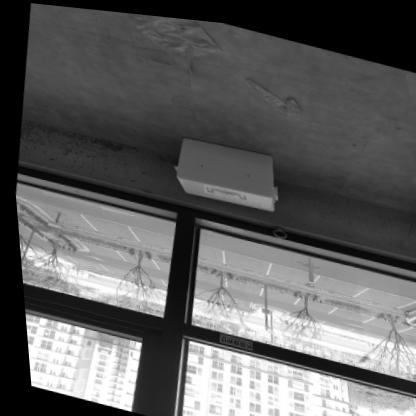DDL: (167, 127, 280, 211)
